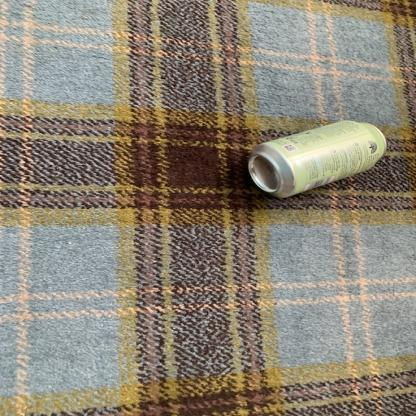trash: (240, 119, 390, 199)
